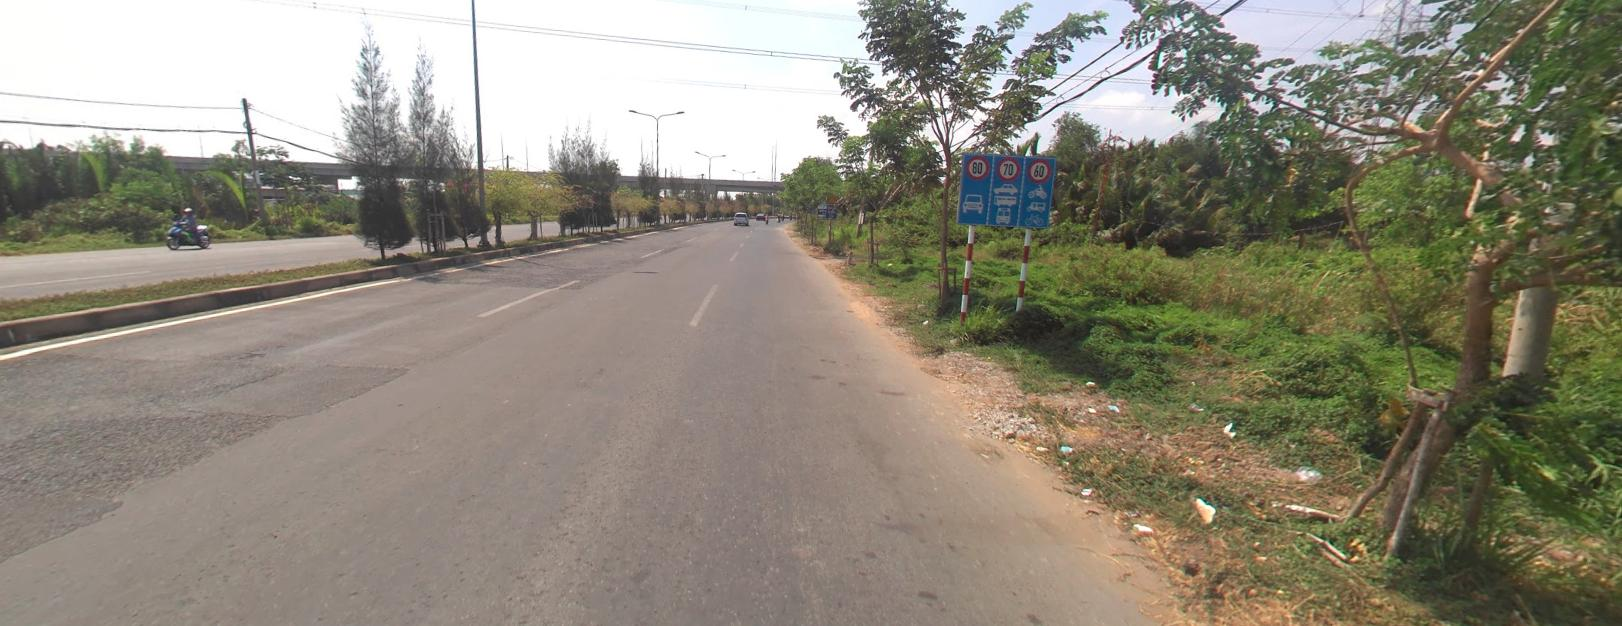Gioi han toc do: (996, 155, 1021, 179), (1028, 156, 1050, 181), (965, 154, 988, 177)
Nguy hiem: (827, 192, 837, 201)
